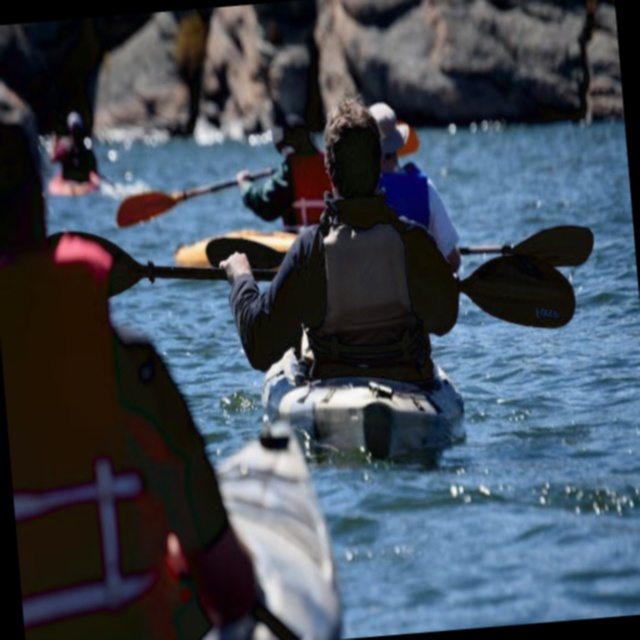clean_water: (13, 13, 627, 627)
foam_scum: (221, 441, 331, 623)
oil_spill: (282, 212, 447, 380)
